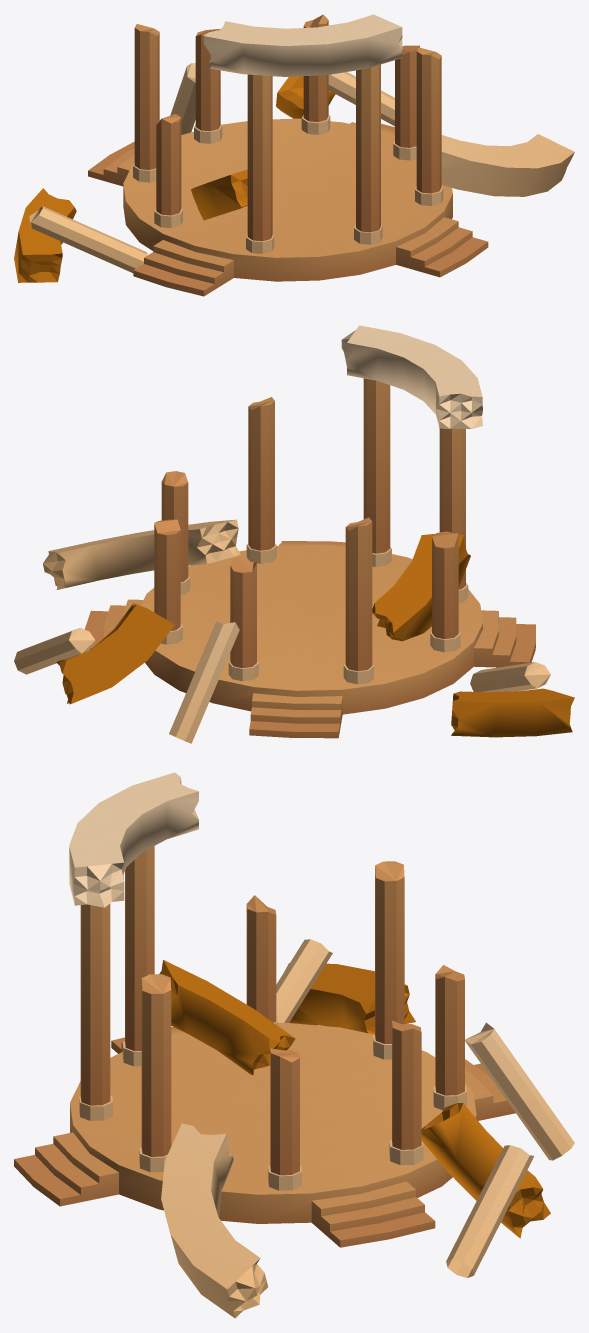
The picture shows the model from 3 angles, top to bottom: view 1: azimuth 30°, elevation 25°; view 2: azimuth 150°, elevation 25°; view 3: azimuth 270°, elevation 25°; orthographic projection. The views are drawn at different scales.
Visible parts, largest first — view 1: Box01_0; view 2: Box01_0; view 3: Box01_0.
Boxes of the visible parts, x1,y1,x2,y2 form: Box01_0: [14, 14, 574, 296]; Box01_0: [14, 325, 574, 743]; Box01_0: [14, 772, 574, 1318].
Bounding box in the file's own units: 1089 × 504 × 811.
